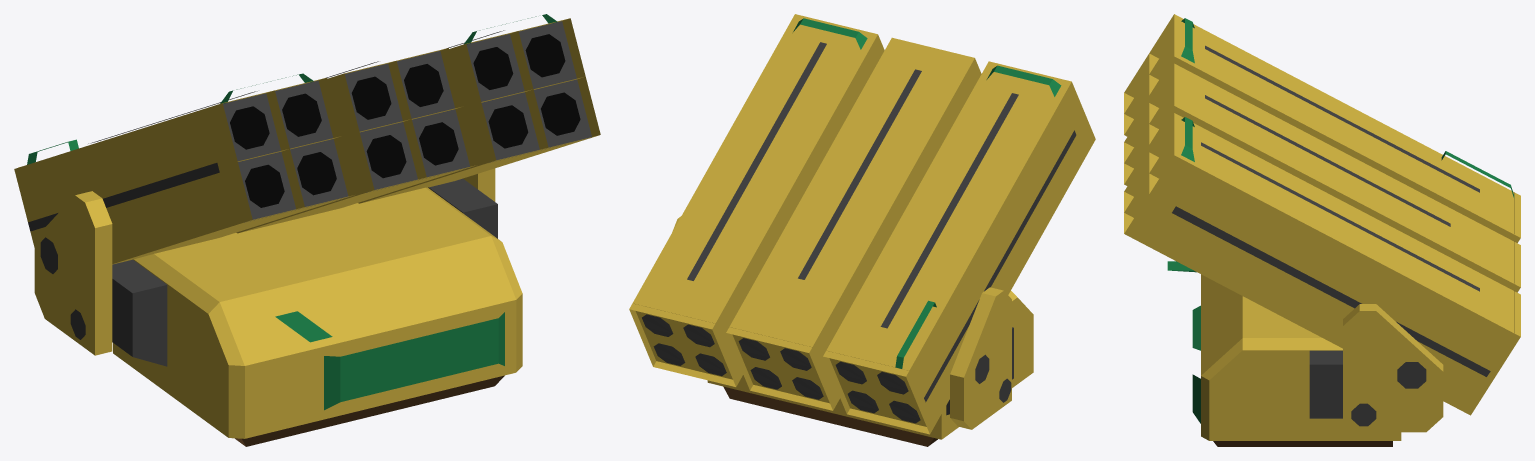
Rendered from launcher.FBX.
3 renders of one model, left to right at view 1: azimuth 30°, elevation 25°; view 2: azimuth 150°, elevation 25°; view 3: azimuth 270°, elevation 25°, orthographic. The views are drawn at different scales.
Visible parts, largest first — view 1: VIFS002, VIFS004, VIFS005, VIFS003, VIFS001; view 2: VIFS002, VIFS004, VIFS001, VIFS003; view 3: VIFS002, VIFS004, VIFS003, VIFS001.
Part boxes in pixels (x1,y1,x2,y2): VIFS002: (14, 18, 600, 438); VIFS004: (28, 21, 591, 366); VIFS005: (230, 34, 580, 207); VIFS003: (27, 14, 557, 410); VIFS001: (235, 375, 504, 446); VIFS002: (629, 14, 1095, 439); VIFS004: (642, 42, 1076, 423); VIFS001: (723, 386, 937, 446); VIFS003: (793, 18, 1061, 368); VIFS002: (1124, 14, 1520, 440); VIFS004: (1172, 45, 1490, 426); VIFS003: (1167, 18, 1514, 423); VIFS001: (1213, 441, 1392, 446).
Size of the model in its own units: 0.47 by 0.416 by 0.475.
